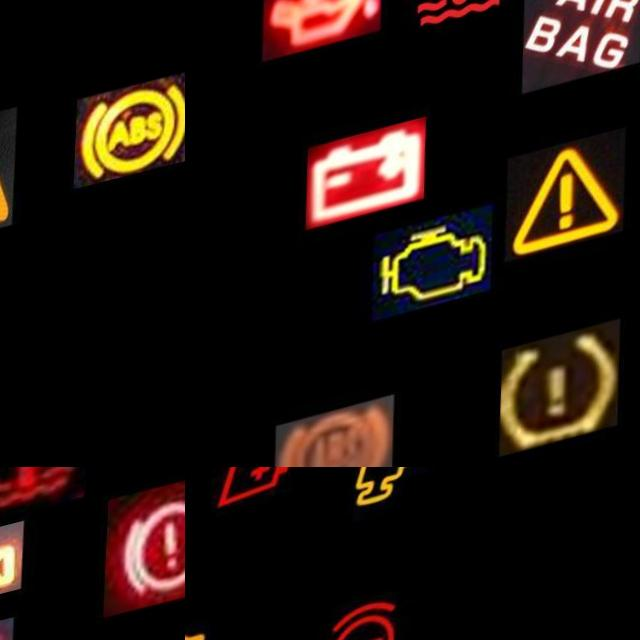Central Warning lamp: (506, 149, 630, 280), (0, 130, 20, 264)
Engine cooling system: (399, 0, 523, 63), (0, 467, 89, 545)
